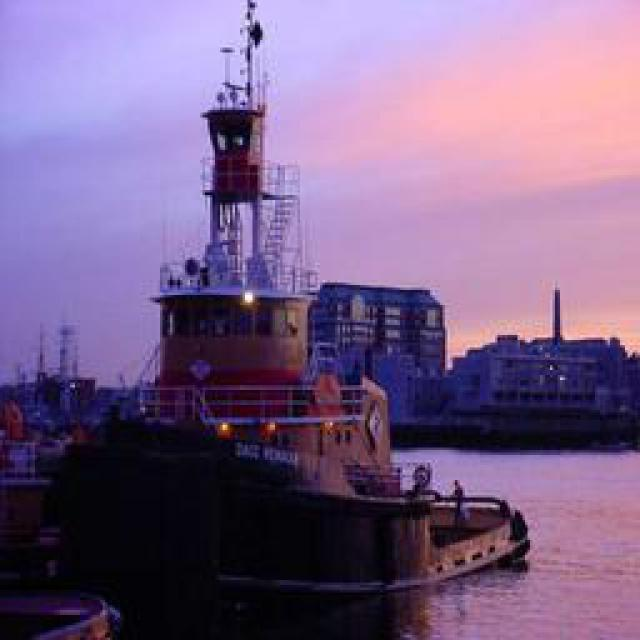Ship: (50, 9, 549, 604)
